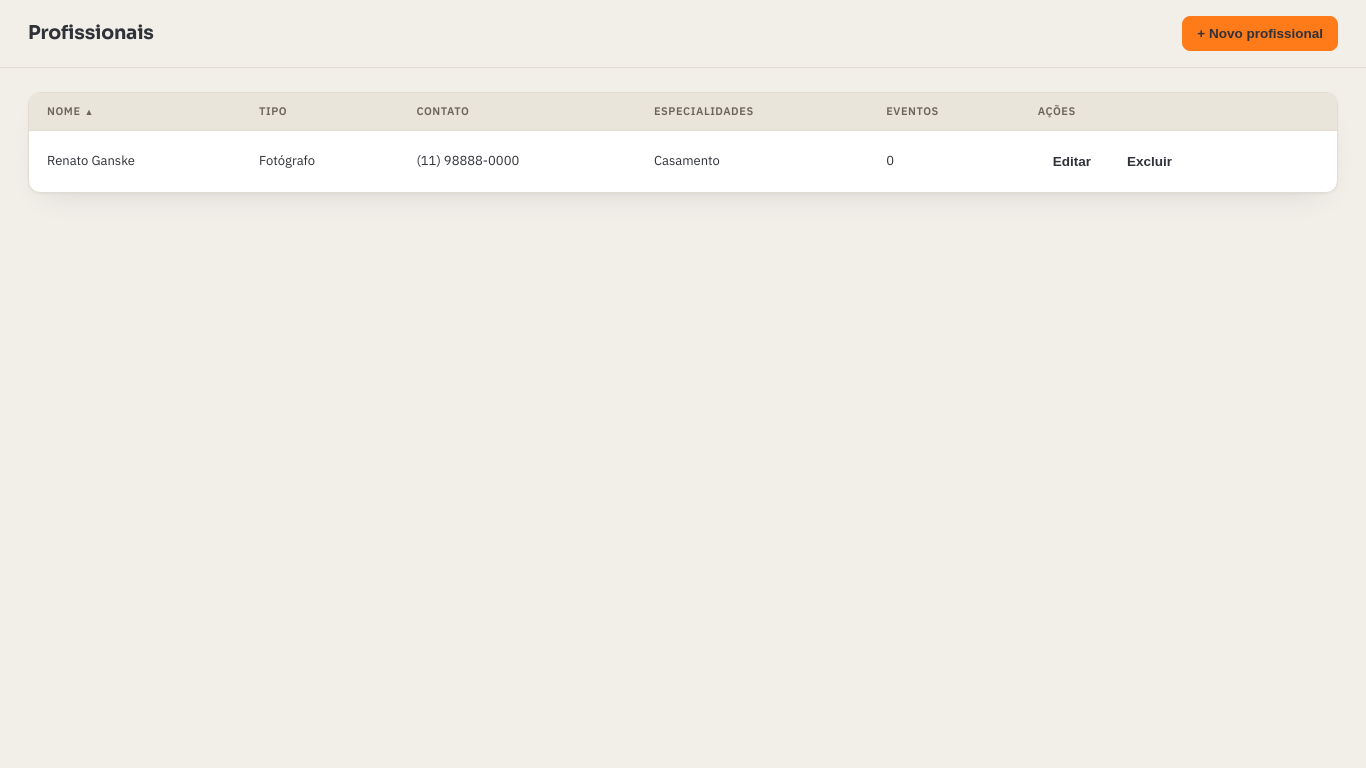
ProfessionalsPage › edita um profissional existente pelo modal, pré-preenchendo tipo e especialidades
Expected: the text "Renato Ganske" is shown, top-left (29, 130), bottom-right (241, 192)
Click the button "Editar".
click(1072, 161)  # box top-left (1038, 144), bottom-right (1106, 178)
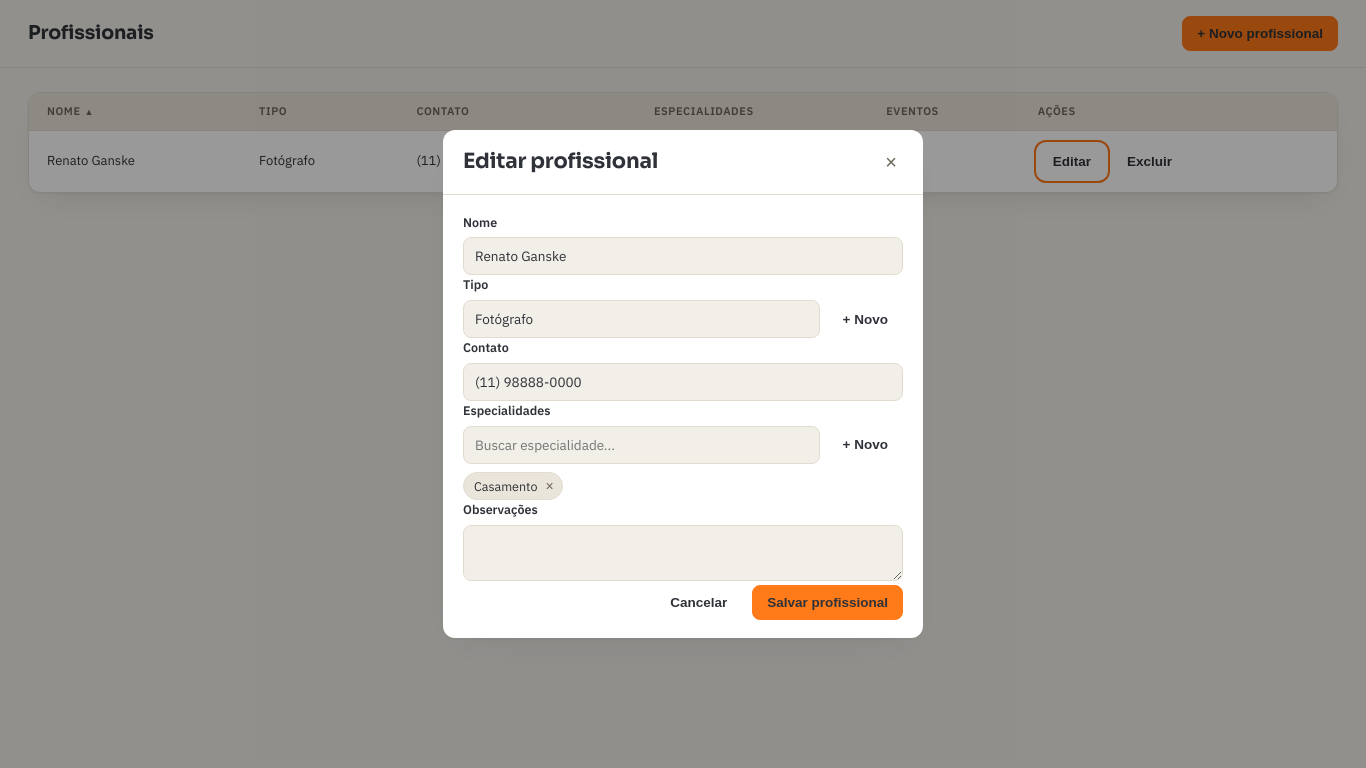
Expected: the field labelled "Nome" holds "Renato Ganske"
Expected: the dropdown labelled "Tipo" holds "Fotógrafo", top-left (463, 300), bottom-right (820, 338)
Expected: the list item "Casamento" is shown, top-left (474, 478), bottom-right (537, 494)
Replace the text in the field labelled "Nome" with "Renato Renomeado" at x=683, y=256, box top-left (463, 237), bottom-right (903, 275)
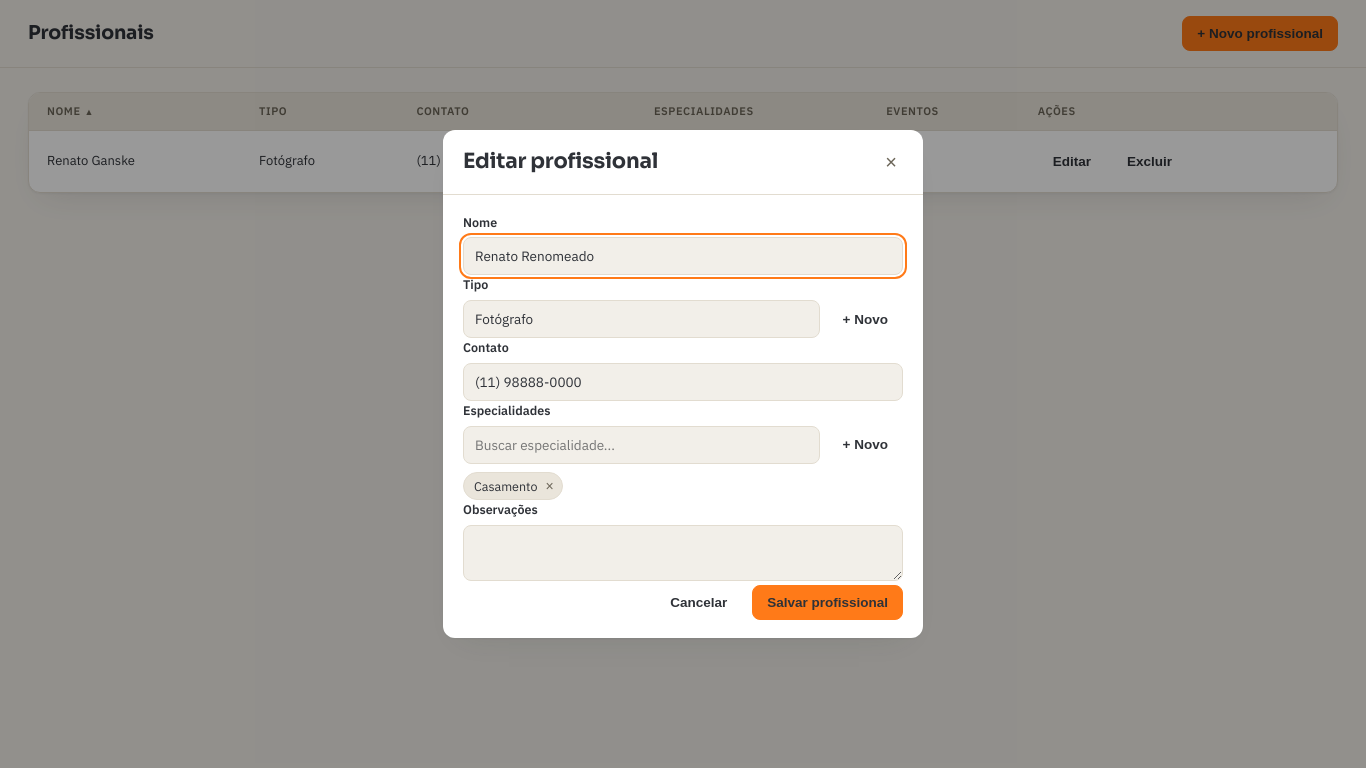
Click the button "Salvar profissional".
click(828, 602)  # box top-left (752, 585), bottom-right (903, 620)
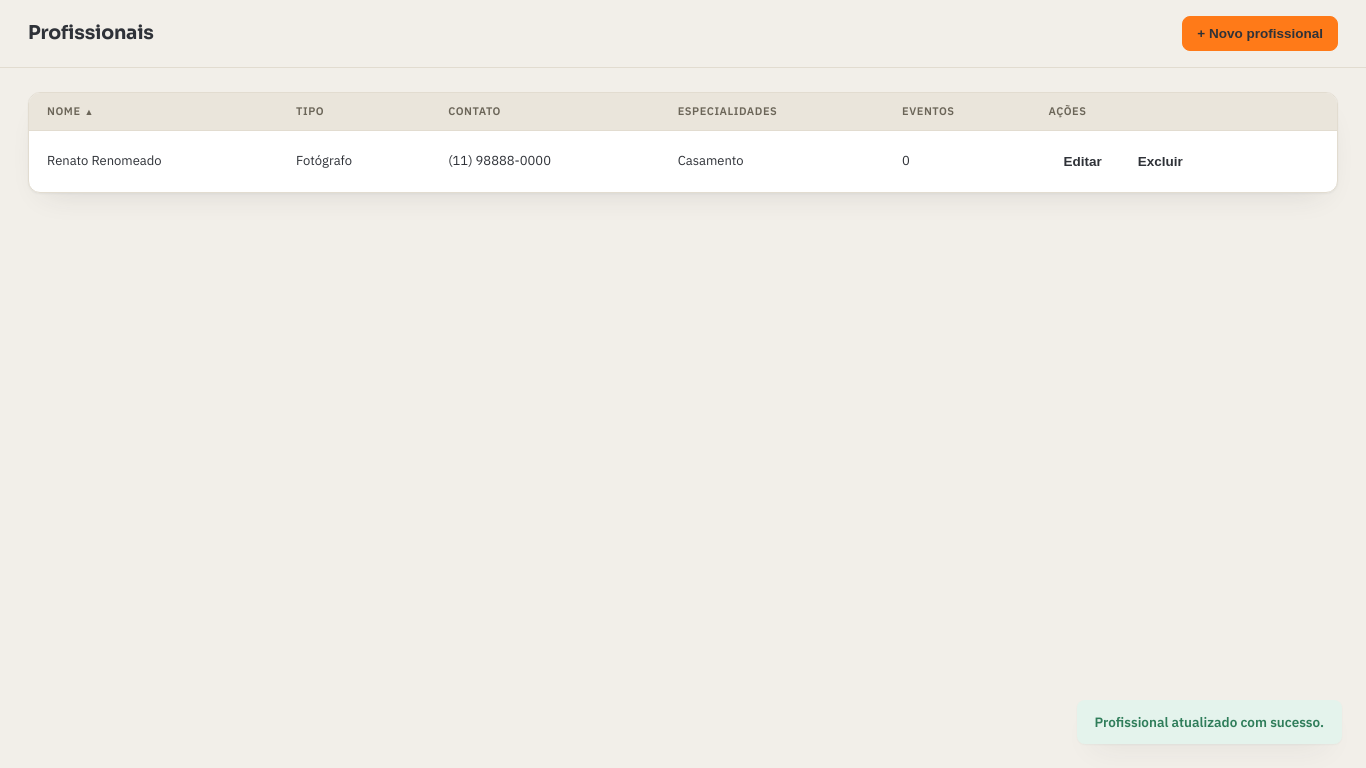
Expected: the text "Renato Renomeado" is shown, top-left (29, 130), bottom-right (278, 192)
